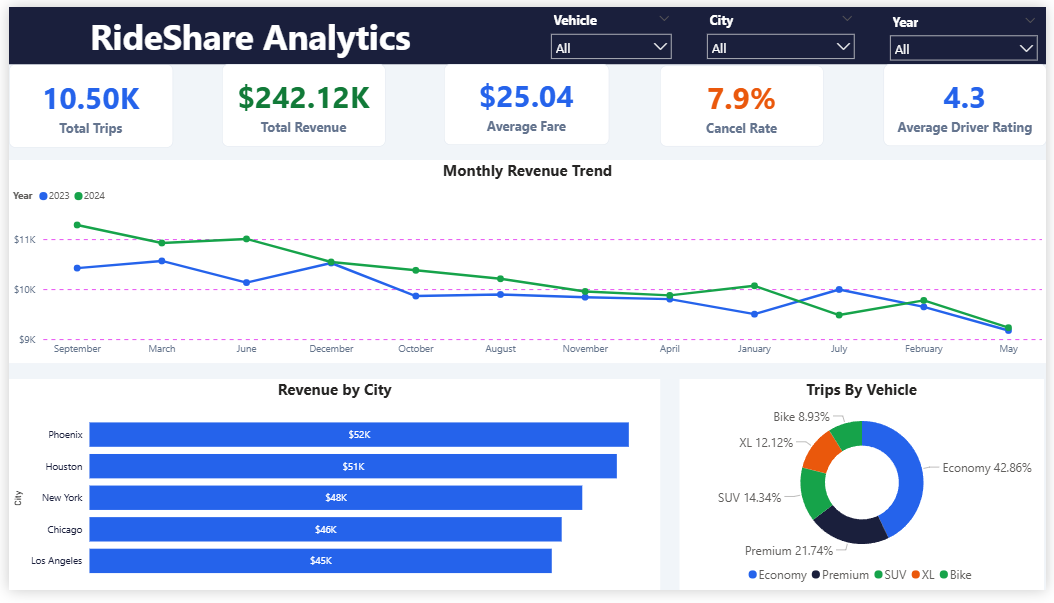

The page's visual inventory and layout, read from the dashboard file:
{"tool":"powerbi","page":{"name":"Executive Summary","canvas":[1280,720],"ordinal":0},"visuals":[{"type":"card","title":"Total Trips","fields":{"Values":["_Measures (2).total_trips"]},"box":[0,70.1,202.5,103.2],"z":0},{"type":"lineChart","title":"Monthly Revenue Trend","fields":{"Y":["_Measures (2).total_revenue"],"Category":["date_table.Month Name"],"Series":["date_table.Year"]},"box":[0,188.2,1280.4,251],"z":1000},{"type":"barChart","title":"Revenue by City","fields":{"Y":["_Measures (2).total_revenue"],"Category":["trips.city"]},"box":[0,459.6,804.2,260.9],"z":2000},{"type":"donutChart","title":"Trips By Vehicle","fields":{"Category":["trips.vehicle_type"],"Y":["_Measures (2).total_trips"]},"box":[827.6,459.6,449.8,260.9],"z":3000},{"type":"shape","box":[0,0,1280.6,71],"z":4000},{"type":"card","title":"Total Trips","fields":{"Values":["_Measures (2).total_revenue"]},"box":[262.7,70.6,202,102],"z":5000},{"type":"card","title":"Total Trips","fields":{"Values":["_Measures (2).avg_fare_per_trip"]},"box":[537.3,70.6,203.9,100],"z":6000},{"type":"card","title":"Total Trips","fields":{"Values":["_Measures (2).cancellation_rate"]},"box":[803.9,72.5,202,100],"z":7000},{"type":"card","title":"Total Trips","fields":{"Values":["_Measures (2).avg_driver_rating"]},"box":[1079,71,201.6,101.6],"z":8000},{"type":"slicer","fields":{"Values":["date_table.Year"]},"box":[1078.4,2,202,66.7],"z":9000},{"type":"slicer","fields":{"Values":["locations.city"]},"box":[851,0,202,68.6],"z":10000},{"type":"slicer","fields":{"Values":["trips.vehicle_type"]},"box":[658.8,0,168.6,68.6],"z":11000}]}

Visuals, with their boxes in screenshot pixels (x1, y1, x2, y2), scaled from the page's 1280x720 canvas onto the 1054x603 screenshot:
"Total Trips" card: (x1=0, y1=59, x2=167, y2=145)
"Monthly Revenue Trend" lineChart: (x1=0, y1=158, x2=1053, y2=368)
"Revenue by City" barChart: (x1=0, y1=385, x2=662, y2=602)
"Trips By Vehicle" donutChart: (x1=681, y1=385, x2=1052, y2=602)
shape: (x1=0, y1=0, x2=1053, y2=59)
"Total Trips" card: (x1=216, y1=59, x2=383, y2=145)
"Total Trips" card: (x1=442, y1=59, x2=610, y2=143)
"Total Trips" card: (x1=662, y1=61, x2=828, y2=144)
"Total Trips" card: (x1=888, y1=59, x2=1053, y2=145)
slicer - date_table.Year: (x1=888, y1=2, x2=1053, y2=58)
slicer - locations.city: (x1=701, y1=0, x2=867, y2=57)
slicer - trips.vehicle_type: (x1=542, y1=0, x2=681, y2=57)
